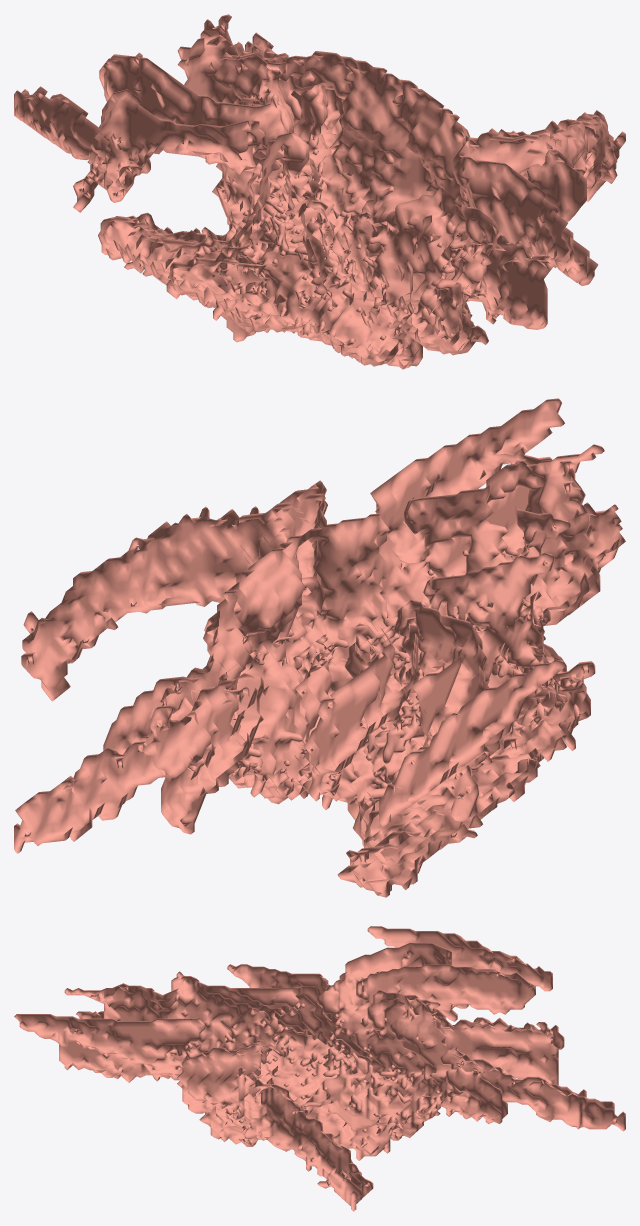
Rendered from osteocyte_83.glb.
The picture shows the model from 3 angles, top to bottom: view 1: azimuth 30°, elevation 25°; view 2: azimuth 150°, elevation 25°; view 3: azimuth 270°, elevation 25°; orthographic projection. The views are drawn at different scales.
Parts seen in each view (by area): view 1: osteocyte_83; view 2: osteocyte_83; view 3: osteocyte_83.
Part boxes in pixels (left/top/right/bottom): osteocyte_83: left=14, top=14, right=625, bottom=369; osteocyte_83: left=14, top=398, right=625, bottom=897; osteocyte_83: left=14, top=926, right=625, bottom=1211.
Size of the model in its own units: 36.59 by 16.37 by 52.48.
